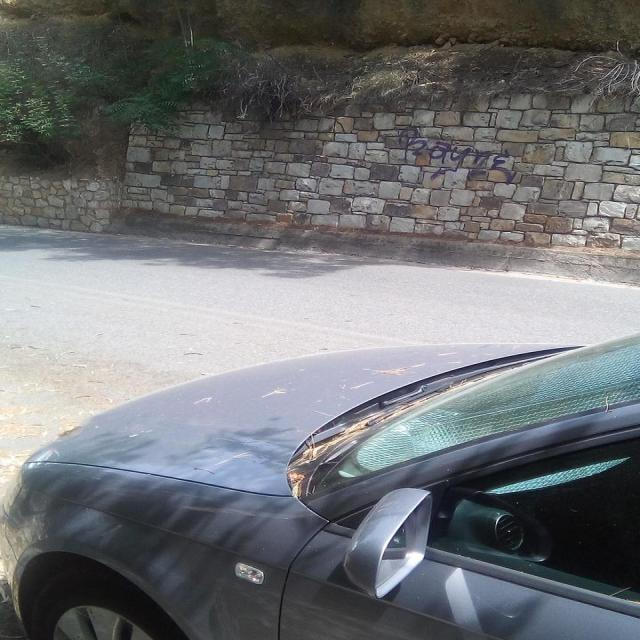nonspitting: (398, 126, 516, 186)
